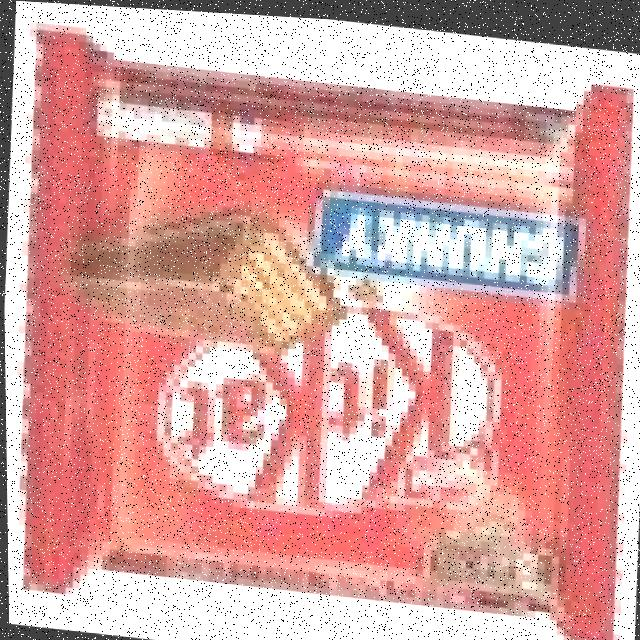kitkat: (4, 20, 640, 640)
